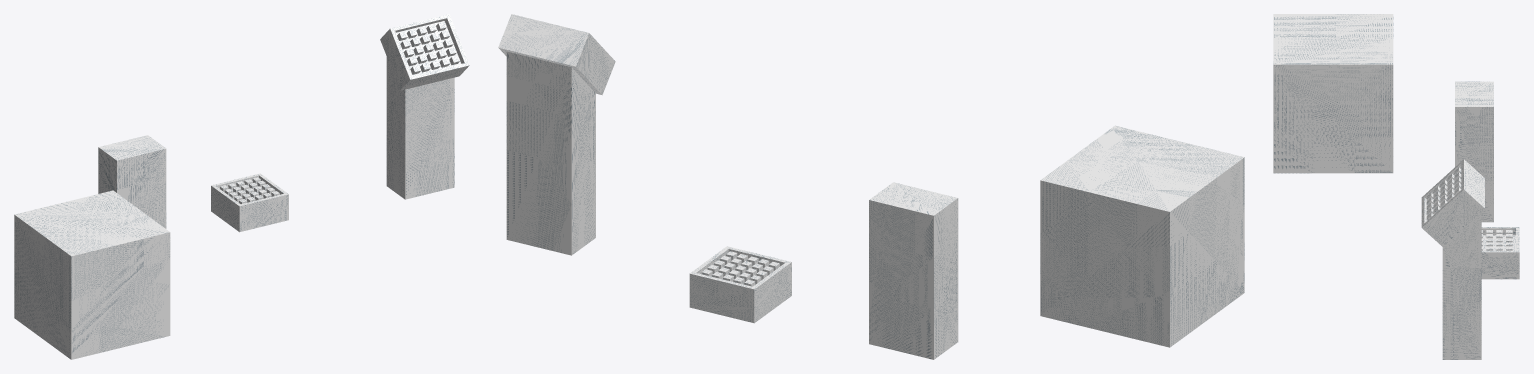
File: Keypad Test.dae
The picture shows the model from 3 angles, left to right: view 1: azimuth 30°, elevation 25°; view 2: azimuth 150°, elevation 25°; view 3: azimuth 270°, elevation 25°; orthographic projection. The views are drawn at different scales.
Visible parts, largest first — view 1: SketchUp (×4); view 2: SketchUp (×4); view 3: SketchUp (×4).
Part boxes in pixels (left/top/right/bottom): SketchUp (×4): left=14, top=14, right=469, bottom=359; SketchUp (×4): left=498, top=14, right=1244, bottom=359; SketchUp (×4): left=1273, top=14, right=1519, bottom=359.
Bounding box in the file's own units: 4.74 × 2.05 × 1.66.
